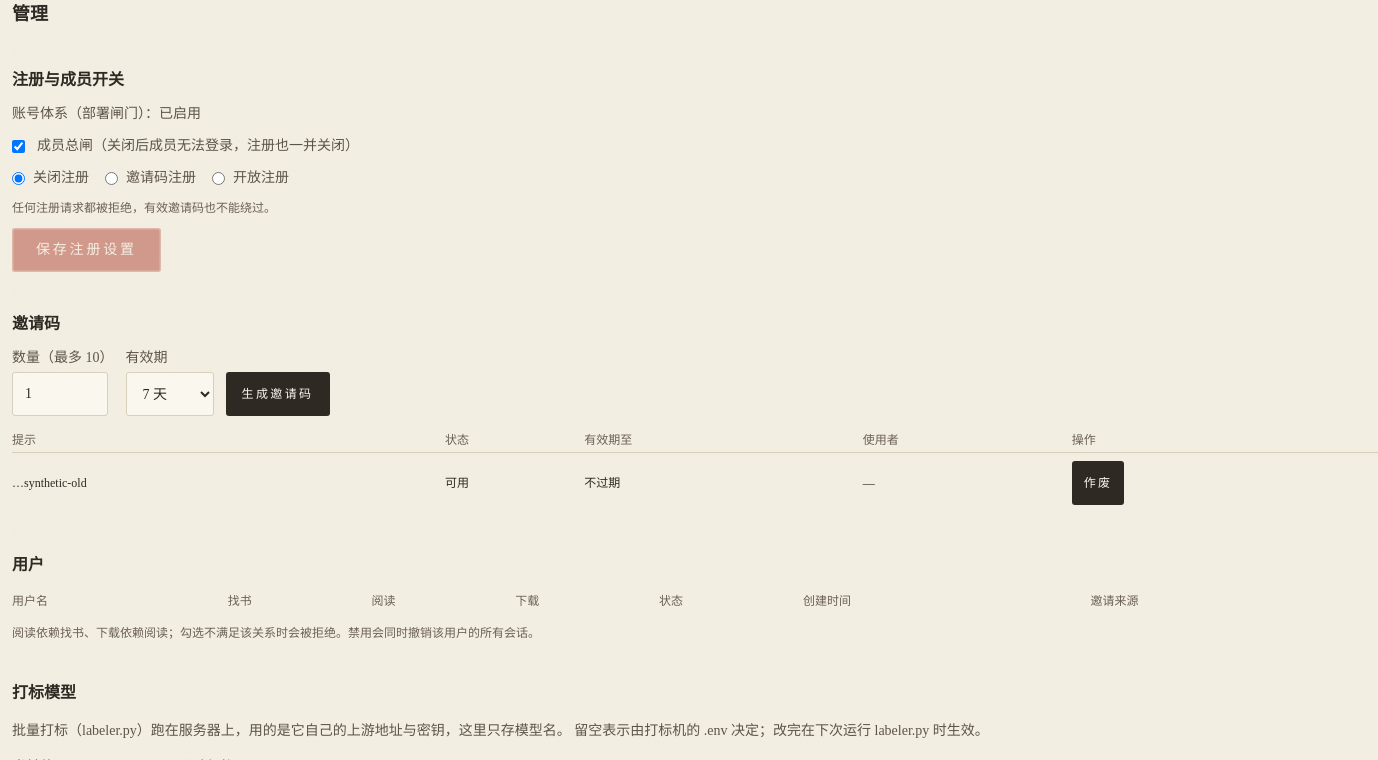
still refreshes the list on success
The width and height of the screenshot is (1378, 760).
Click the button "生成邀请码" at (278, 394), box x1=226 y1=372 x2=330 y2=416
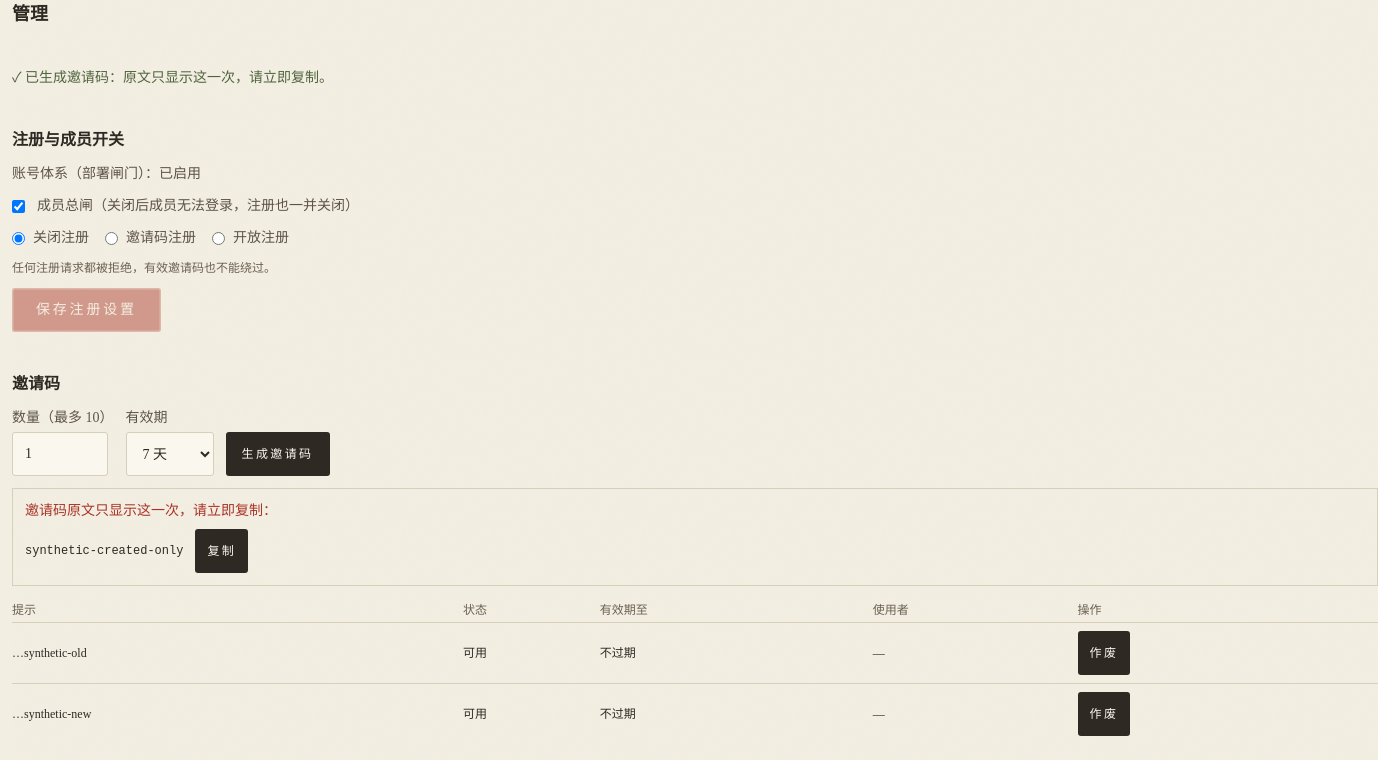
Expected: the text "…synthetic-new" is shown, x1=12 y1=684 x2=463 y2=744
Expected: the text "synthetic-created-only" is shown, x1=25 y1=543 x2=183 y2=559
